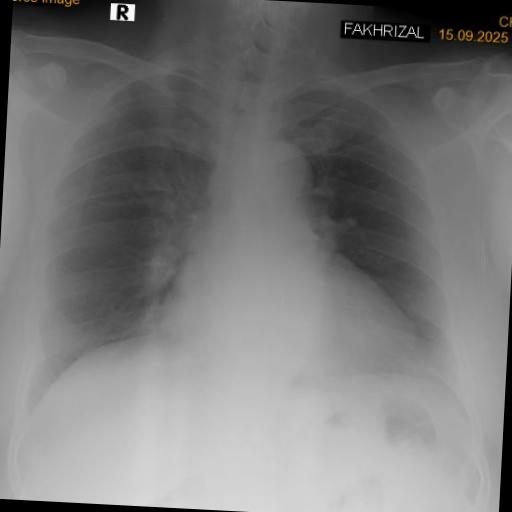kardiomegali: (16, 37, 500, 436)
